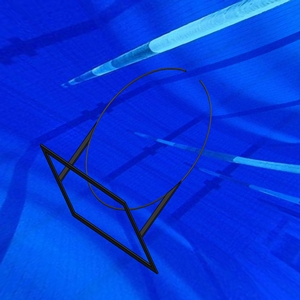circle: (40, 67, 214, 276)
